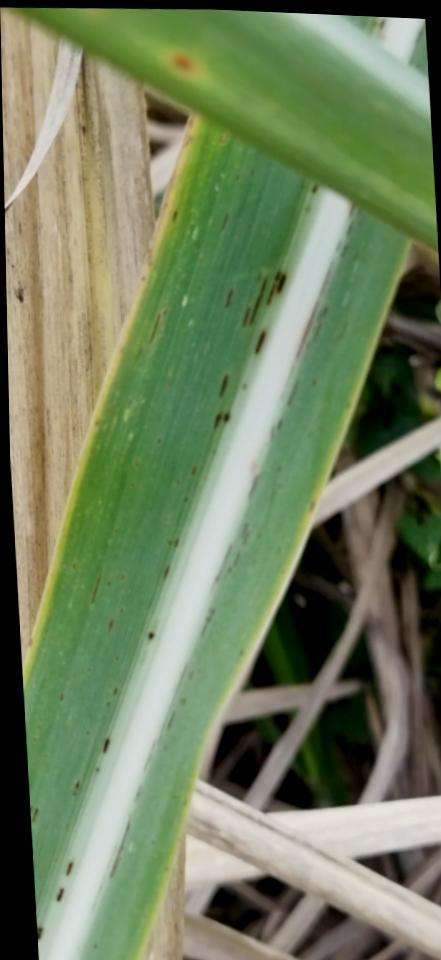Rust: (291, 256, 334, 361), (155, 661, 188, 745), (107, 819, 132, 880), (207, 542, 234, 593), (247, 277, 268, 327), (309, 305, 328, 344), (263, 267, 281, 308), (141, 736, 156, 774), (198, 606, 216, 637), (146, 311, 162, 345), (332, 316, 351, 344), (88, 570, 103, 604), (251, 325, 267, 356), (284, 378, 300, 409), (245, 471, 261, 500), (224, 549, 241, 576), (170, 53, 193, 72), (216, 373, 229, 399), (221, 287, 234, 310), (274, 272, 286, 295), (239, 306, 251, 328), (164, 710, 175, 733), (211, 410, 223, 431), (131, 782, 143, 803), (343, 218, 354, 238), (160, 563, 172, 581), (344, 202, 356, 220), (219, 211, 230, 230), (63, 859, 74, 877), (54, 886, 65, 904), (70, 779, 81, 797), (238, 522, 249, 539), (30, 807, 40, 825), (221, 409, 232, 424), (170, 535, 181, 550), (338, 243, 348, 258), (240, 531, 250, 546), (101, 738, 110, 754), (305, 499, 316, 512), (332, 239, 342, 253), (170, 210, 179, 225), (105, 619, 114, 634), (274, 418, 283, 433), (36, 926, 44, 942), (309, 183, 319, 195), (377, 18, 386, 30), (189, 464, 198, 476), (309, 377, 318, 389), (185, 670, 194, 681), (147, 631, 156, 641), (269, 424, 274, 442), (240, 381, 248, 392), (179, 696, 187, 707), (58, 690, 65, 702), (181, 494, 189, 504), (254, 531, 261, 540), (94, 766, 101, 774), (104, 700, 111, 708), (154, 436, 161, 444), (166, 540, 173, 547), (111, 687, 118, 694), (237, 650, 243, 658), (71, 562, 77, 569), (118, 607, 124, 614), (83, 730, 90, 736), (113, 655, 119, 662), (92, 420, 98, 427), (129, 482, 135, 488), (135, 459, 140, 466), (148, 260, 152, 268), (120, 574, 125, 580), (140, 276, 145, 282), (234, 174, 238, 181), (92, 944, 97, 949), (251, 559, 256, 564), (106, 582, 110, 588), (29, 806, 33, 812)
Yellow: (134, 239, 412, 960), (21, 111, 200, 689)
